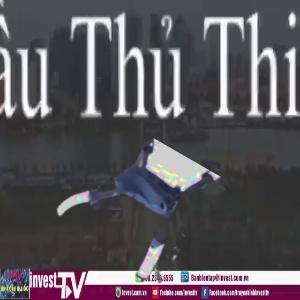drone: (63, 136, 199, 272)
